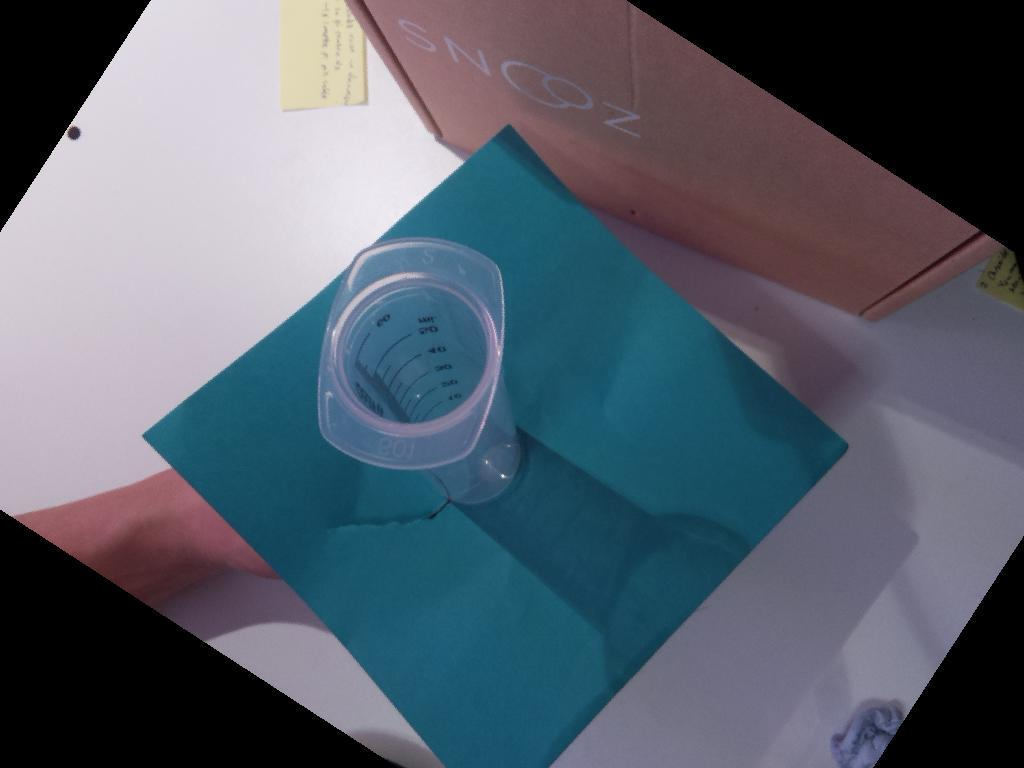clean: (319, 236, 506, 471)
